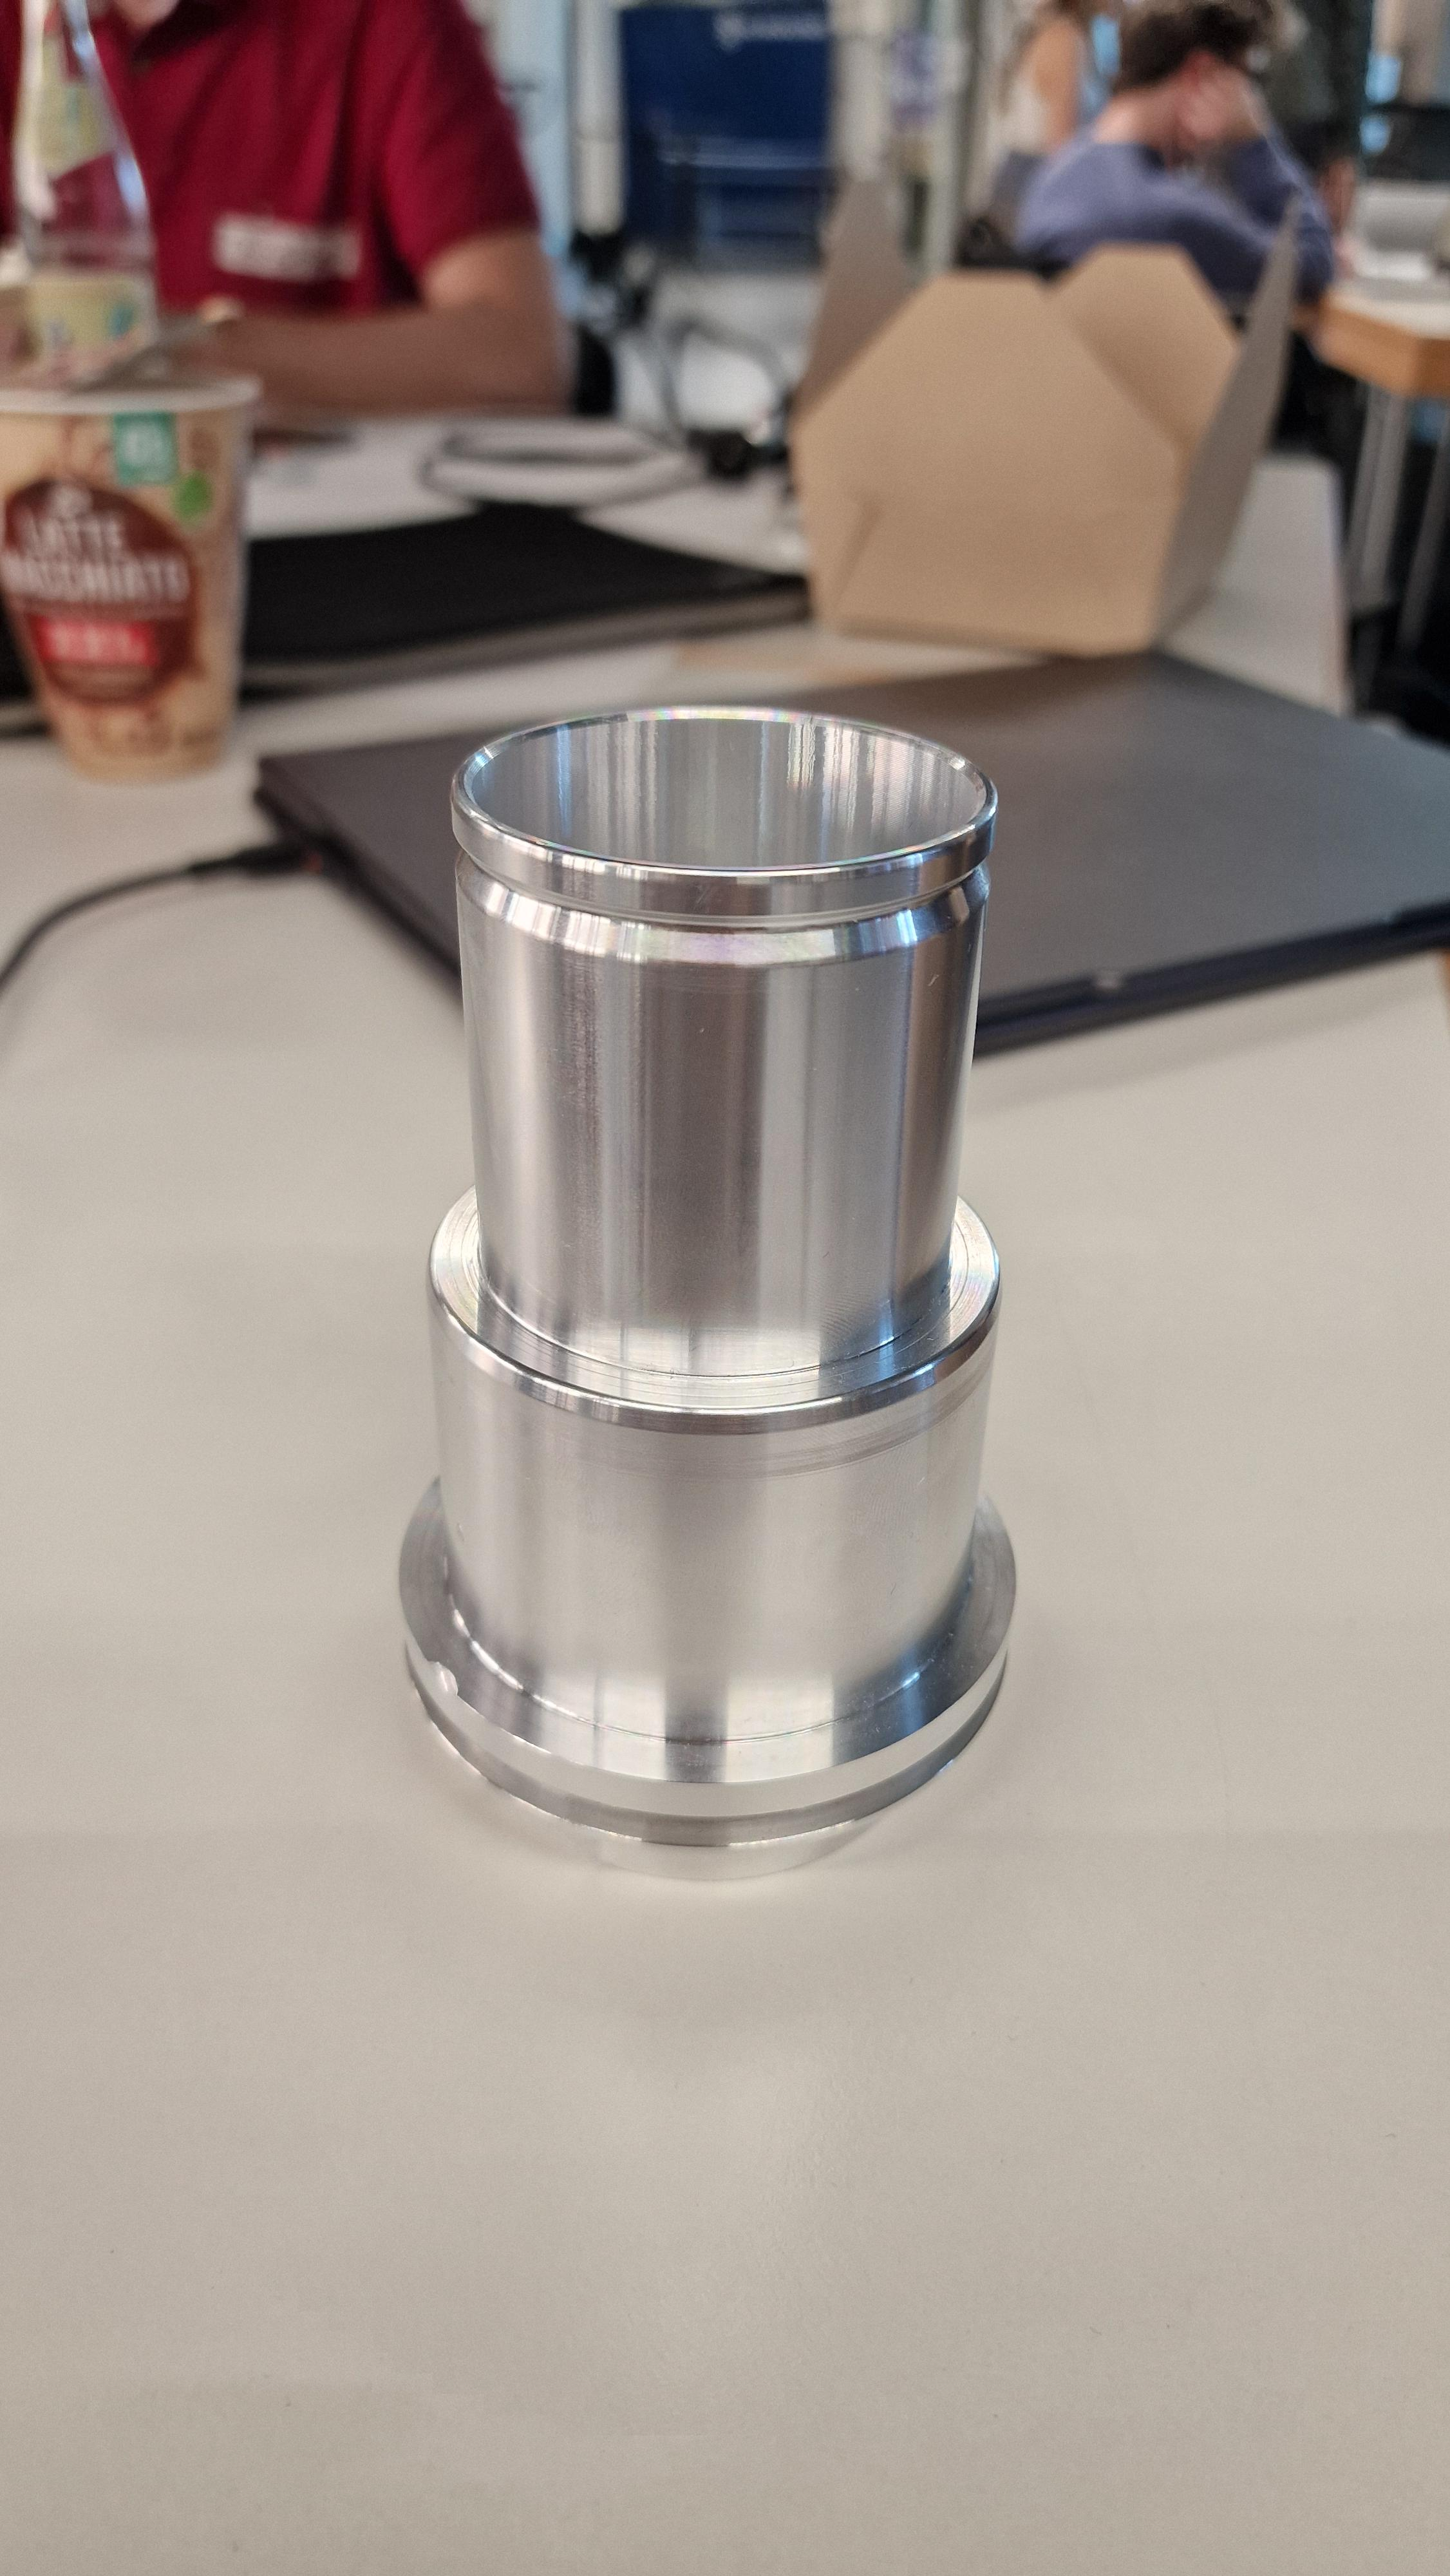damage: (431, 1658, 467, 1702), (918, 971, 948, 993)
objects: (393, 686, 1026, 1884)
